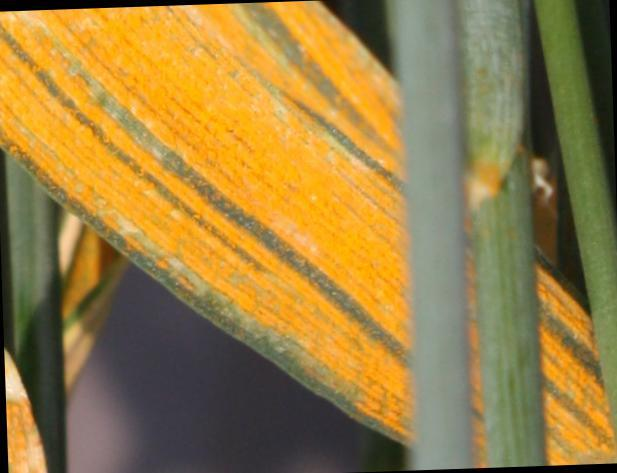Wheat: (4, 17, 394, 215), (132, 193, 375, 390)
